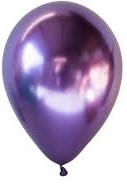Balloon: (3, 1, 122, 164)
